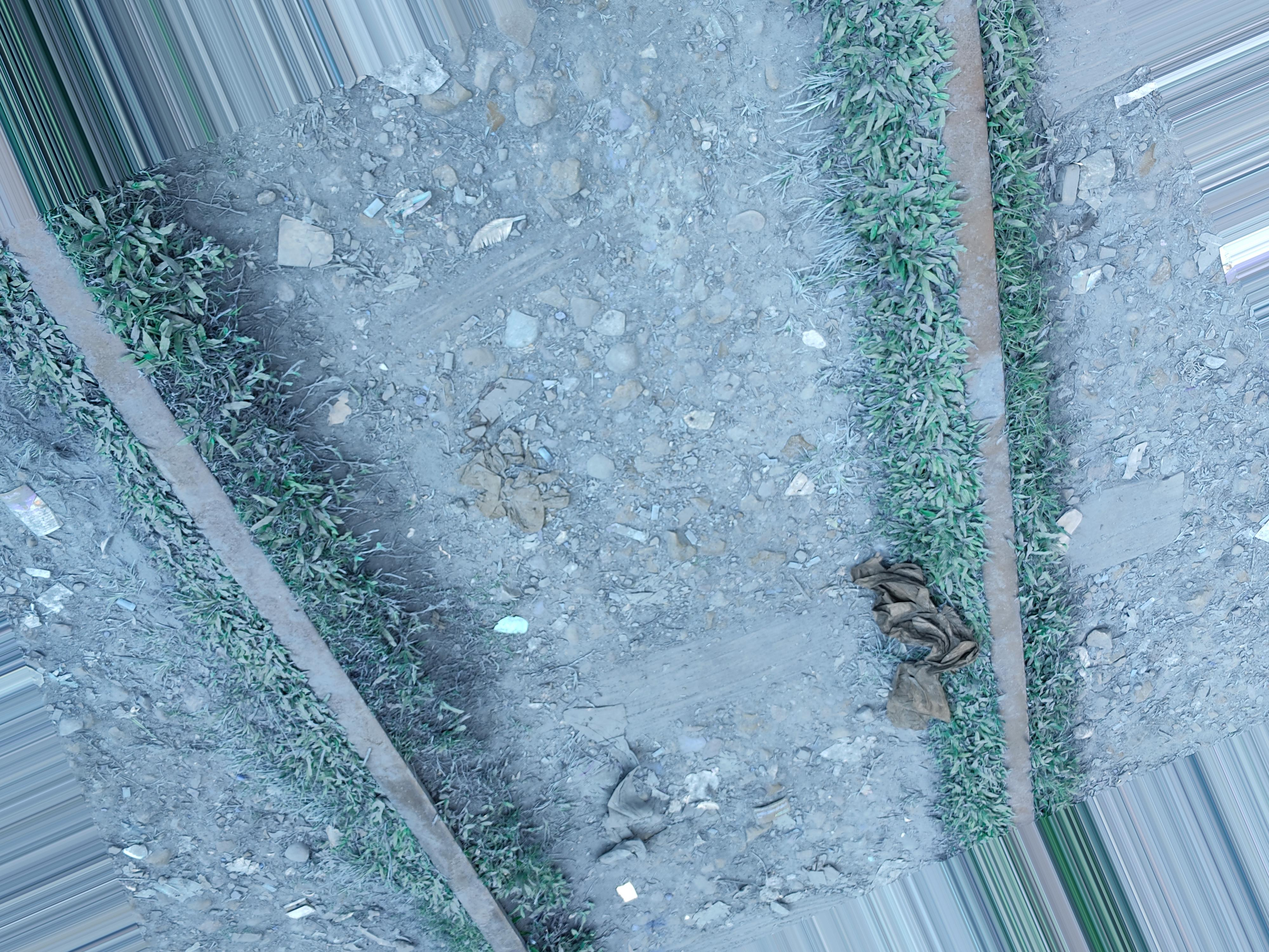tracks_fault: (268, 256, 909, 619)
